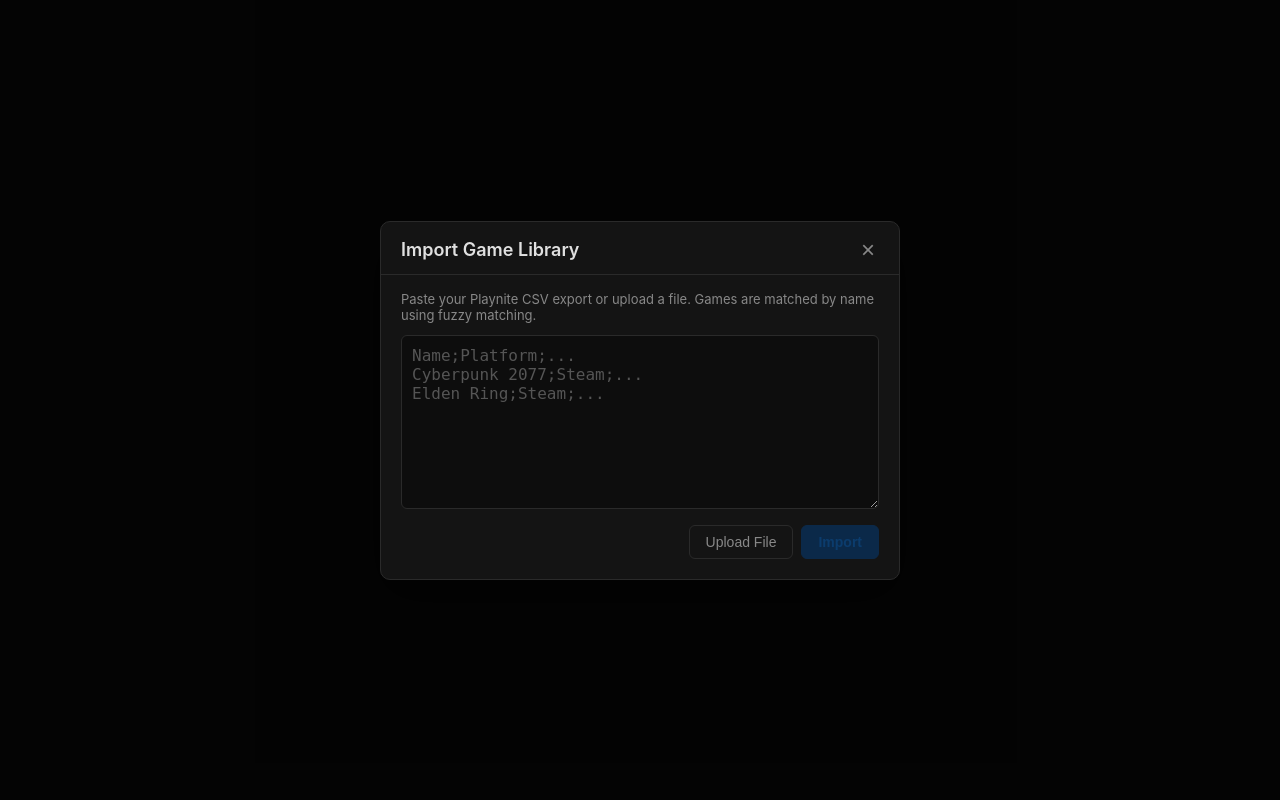
ImportModal component › shows Done button after import
Replace the text in the text box with placeholder "Name;Platform" with "Cyberpunk 2077": (640,422) 401,334 -> 879,508
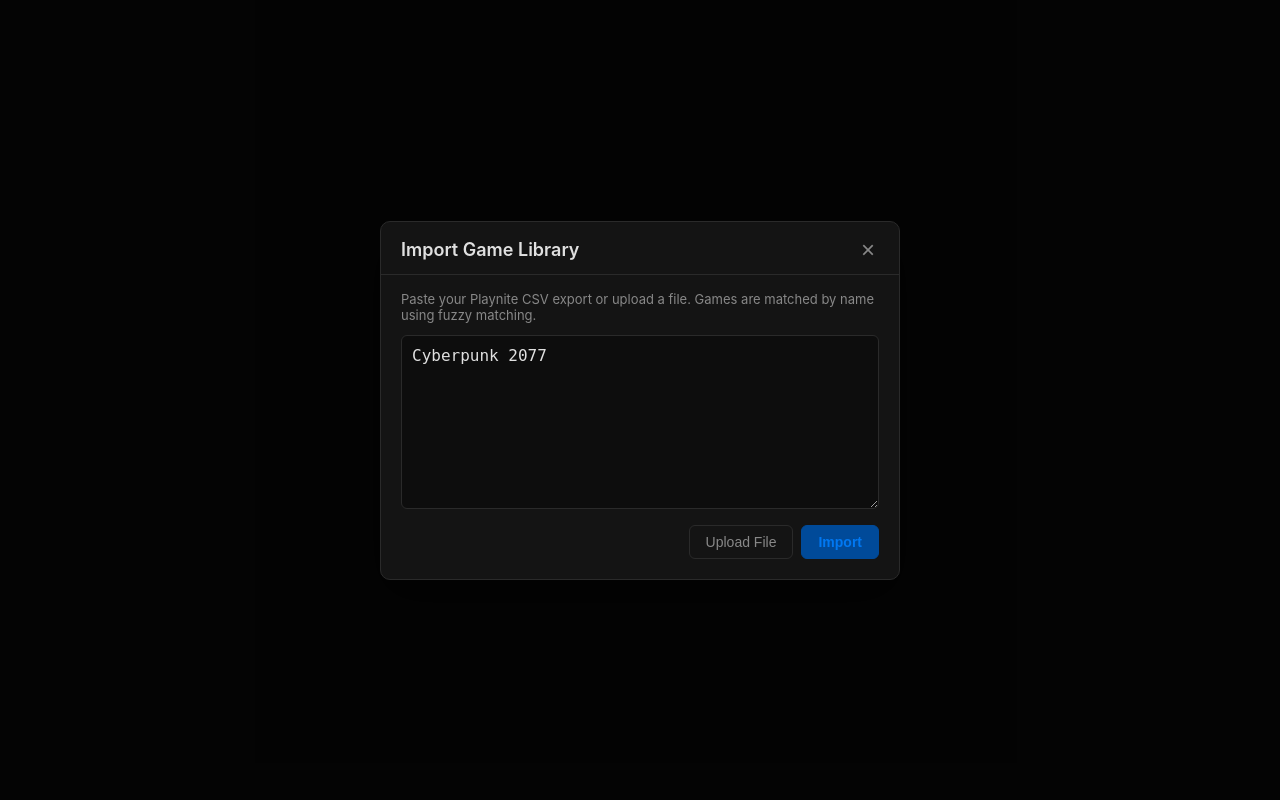
Click the button "Import": (840,542) 801,524 -> 879,558
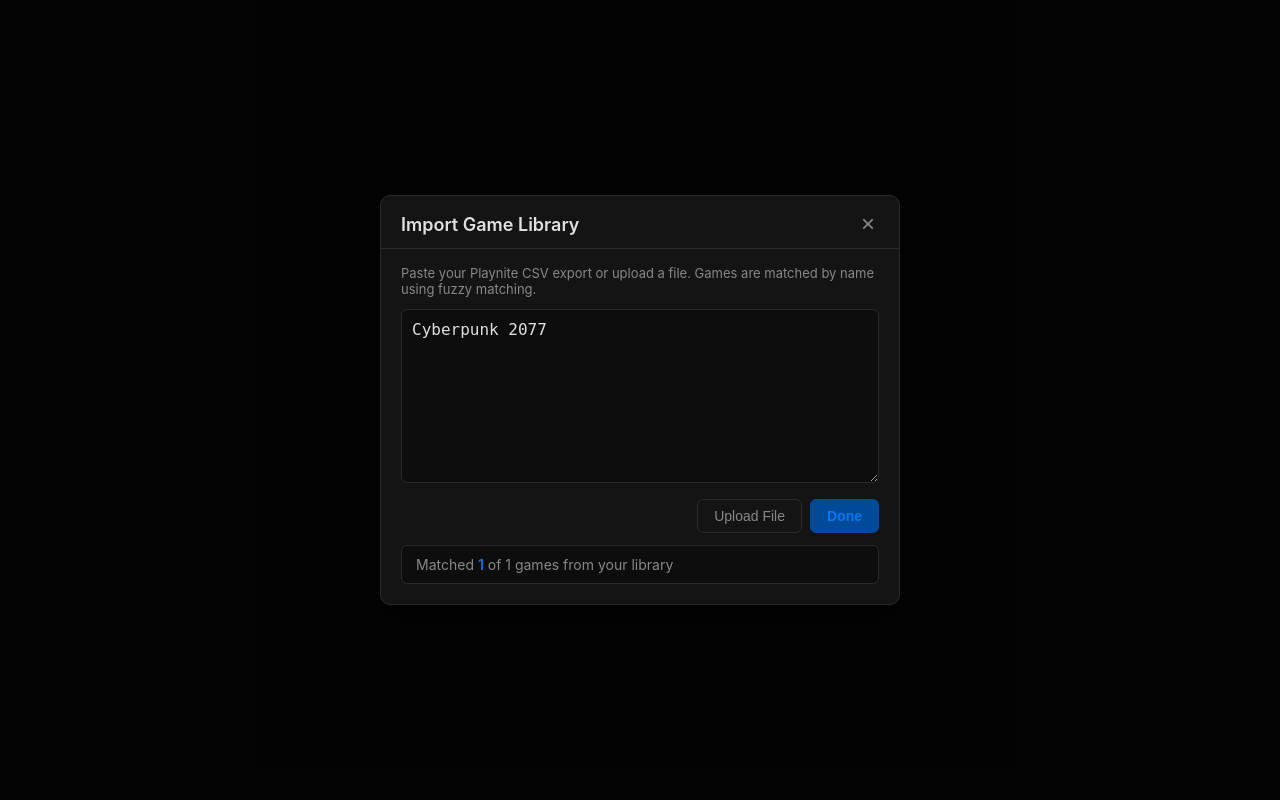
Now the button "Done" is shown, box 810,499 -> 879,533
